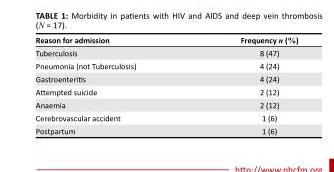table: (34, 34, 297, 135)
table column: (34, 34, 187, 135), (187, 34, 297, 135)
table column header: (34, 34, 297, 46)
table row: (34, 46, 297, 59), (34, 59, 297, 72), (34, 72, 297, 85), (34, 85, 297, 98), (34, 98, 297, 111), (34, 111, 297, 124), (34, 34, 297, 46), (34, 124, 297, 135)
